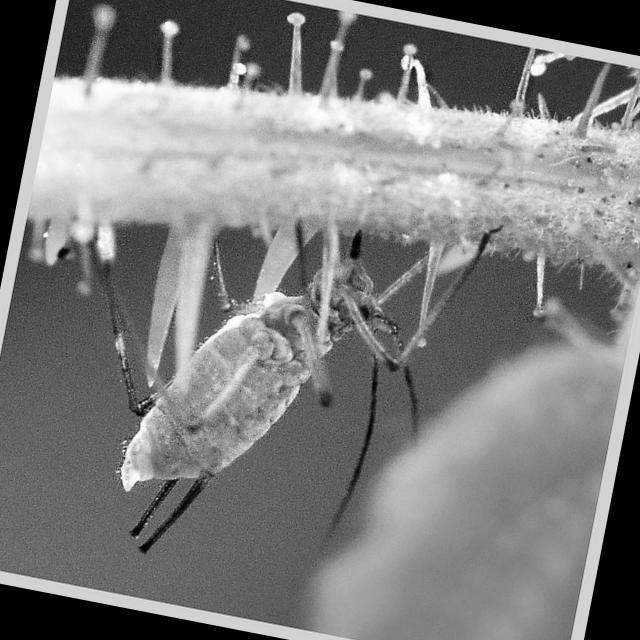Aphids: (28, 115, 498, 612)
